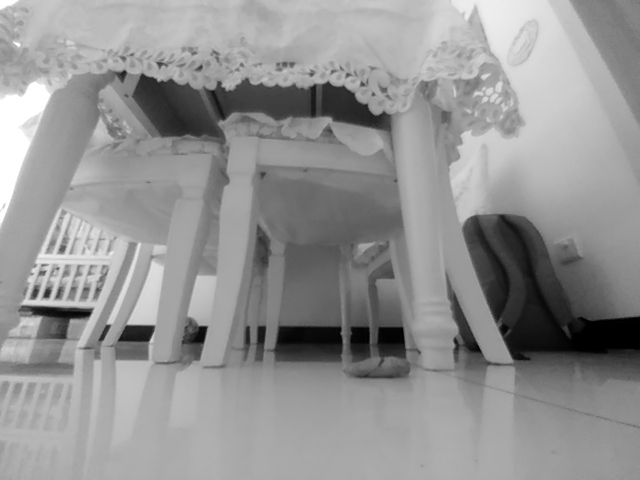pet feces: (343, 354, 414, 379)
